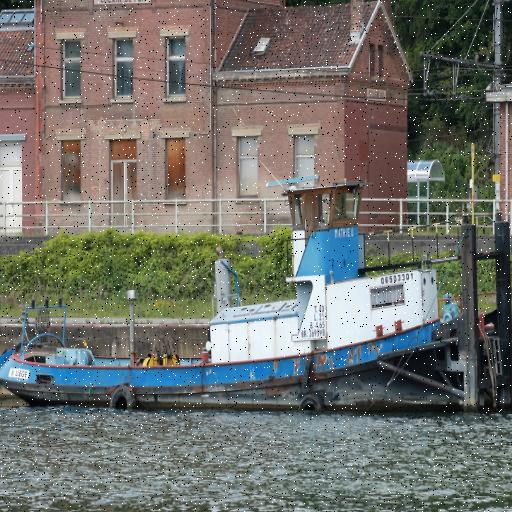tugboat: (1, 171, 512, 431)
